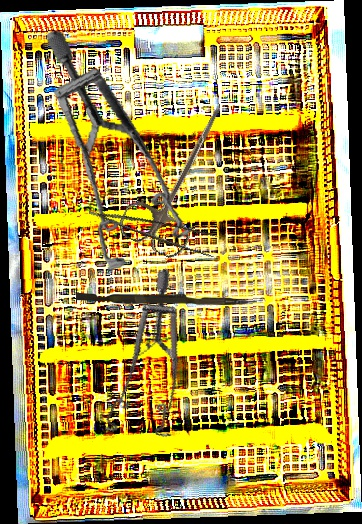Iris Scissors: (114, 89, 248, 263)
Pusher: (76, 293, 257, 305)
Speculum: (12, 29, 220, 283), (63, 268, 218, 455)
Tissue Forceps: (88, 190, 223, 262)
